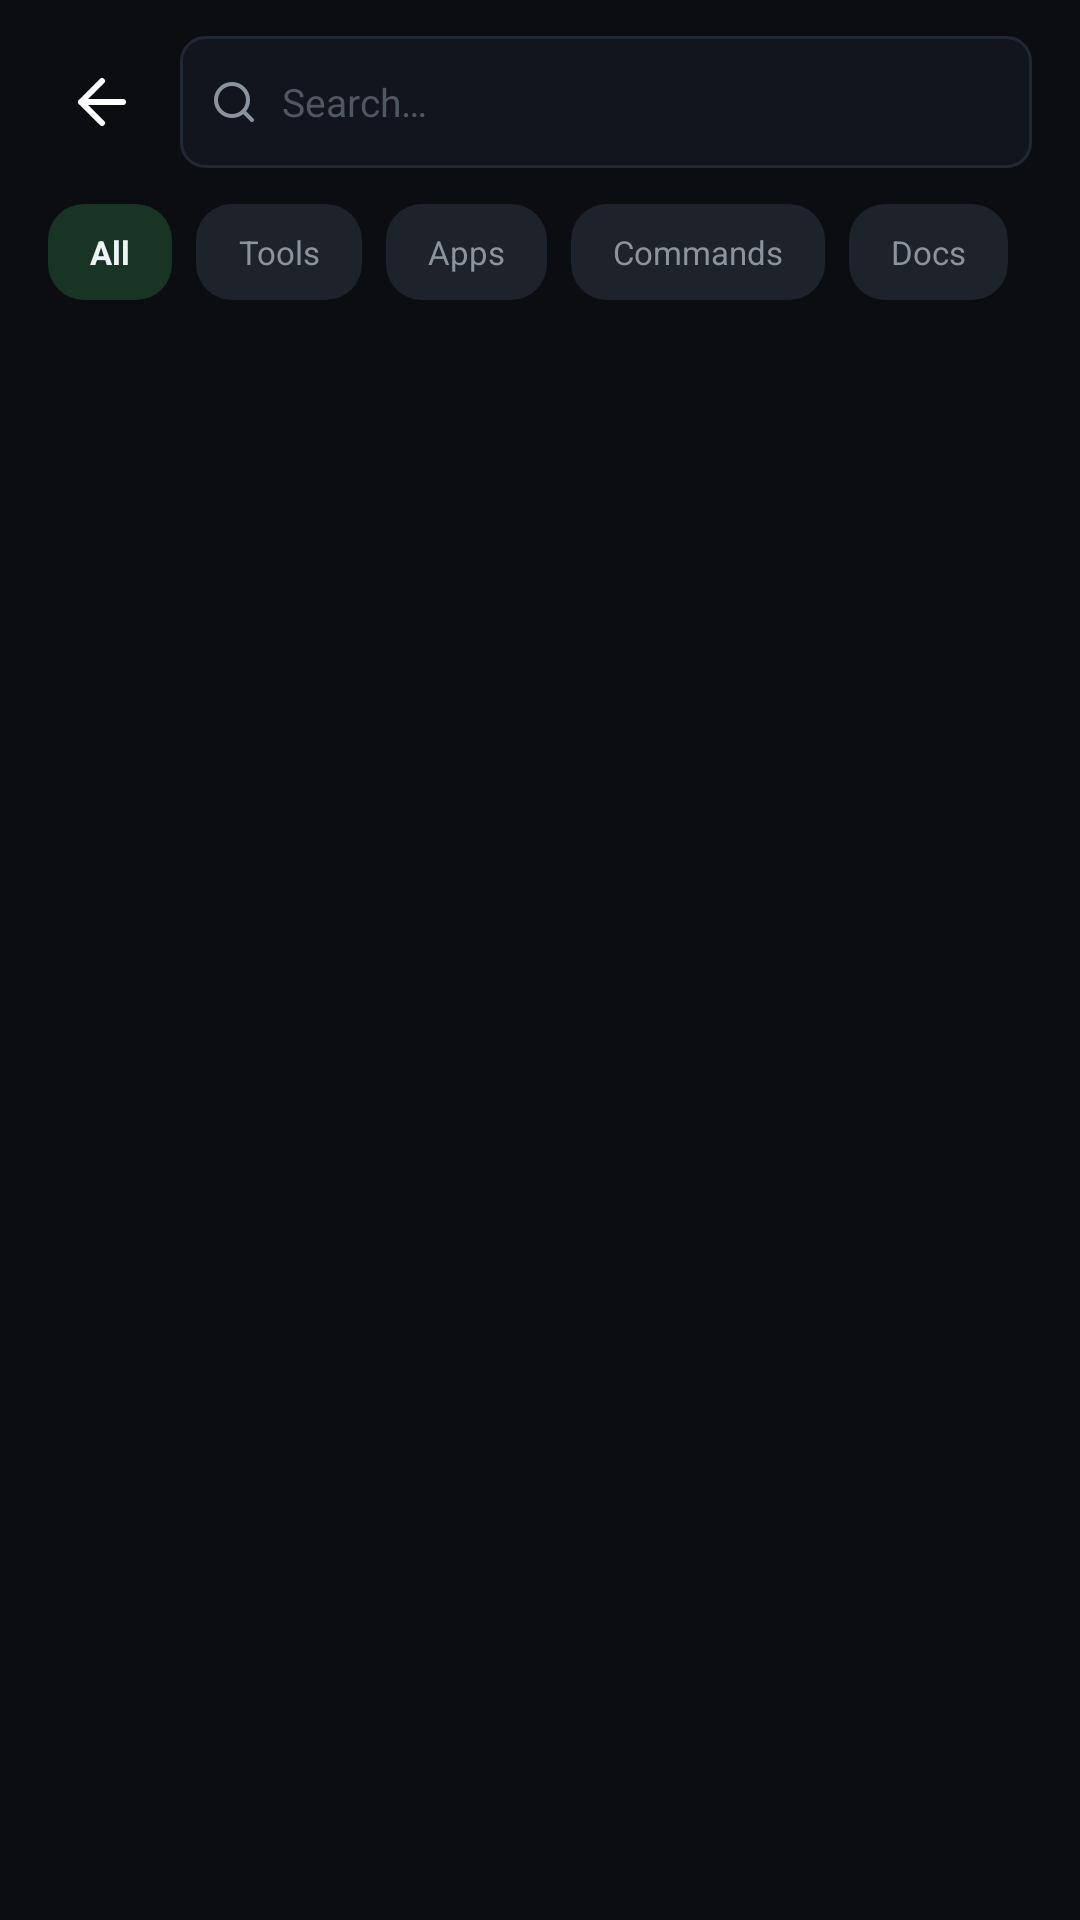

Where to tap for icons on this 1080 × 1920 app screen, as [x,y]:
arrow back: [102,102]
